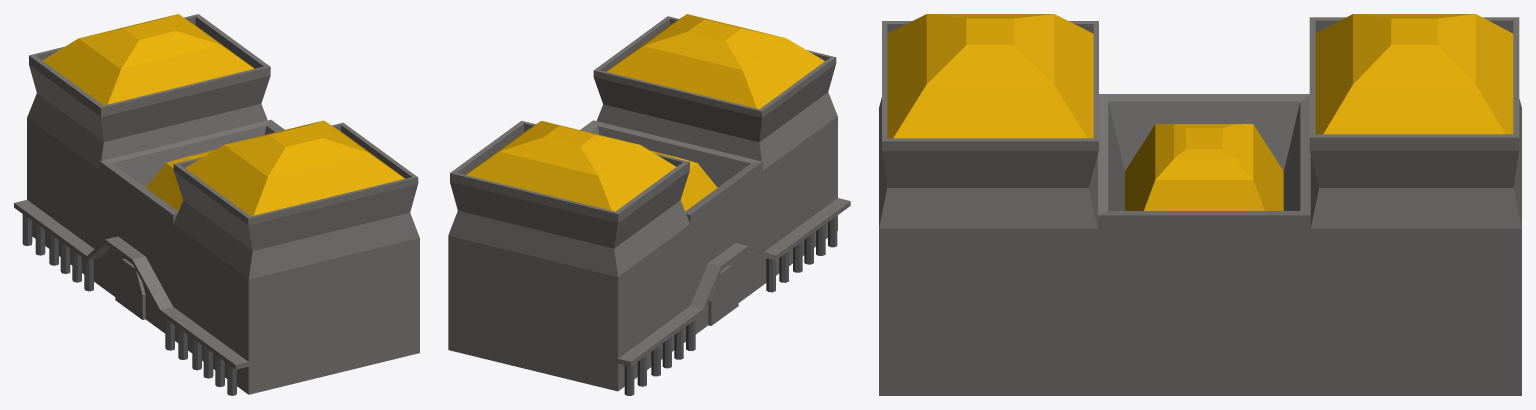
File: house3.fbx
3 views of the same model, side by side, from view 1: azimuth 30°, elevation 25°; view 2: azimuth 150°, elevation 25°; view 3: azimuth 270°, elevation 25° (orthographic). The views are drawn at different scales.
Visible parts, largest first — view 1: Cube; view 2: Cube; view 3: Cube.
Boxes of the visible parts, x1,y1,x2,y2 form: Cube: [14, 14, 419, 394]; Cube: [448, 14, 850, 391]; Cube: [879, 14, 1521, 395].
Bounding box in the file's own units: 6750 × 7525 × 14062.
